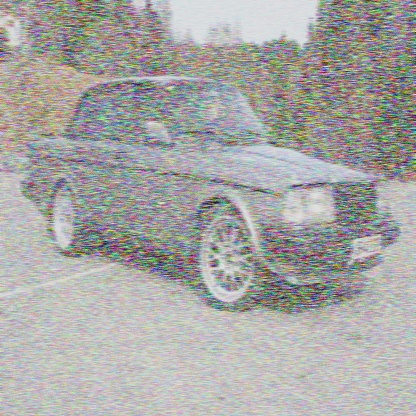Vehicle: (22, 75, 402, 314)
